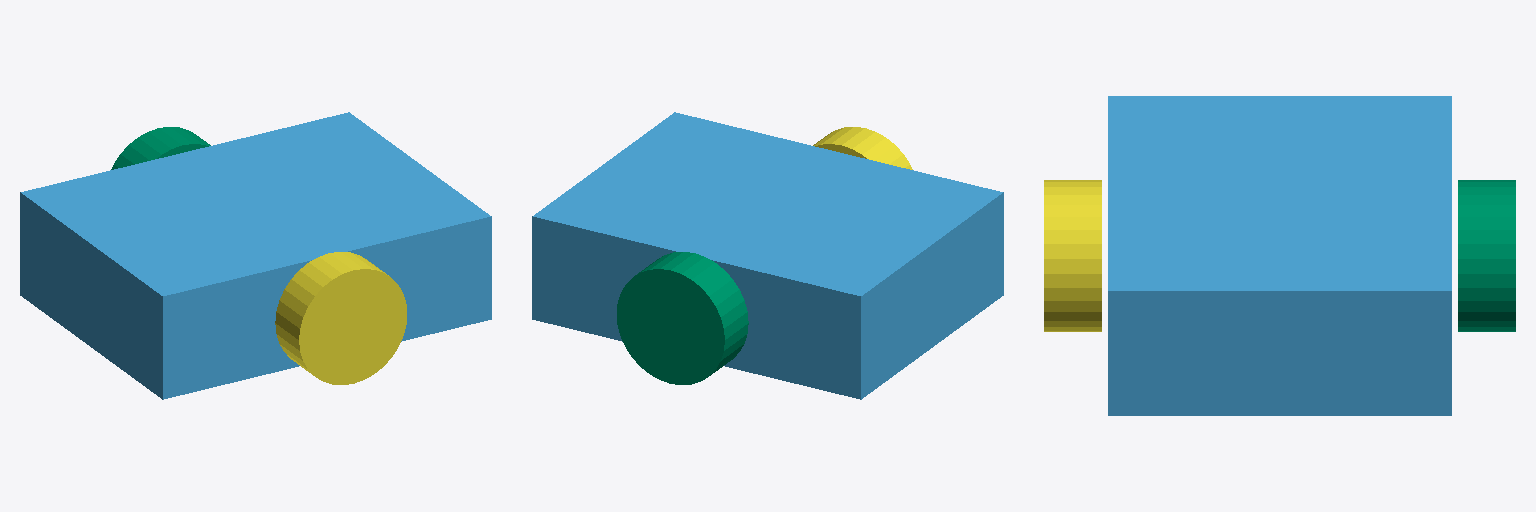
URDF robot description (tushar_car):
<?xml version="1.0" ?>
<robot name="tushar_car">

  <link name="base_footprint"/>

  <joint name="base_joint" type="fixed">
    <parent link="base_footprint"/>
    <child link="base_link"/>
    <origin xyz="0 0 0.033" rpy="0 0 0"/>
  </joint>

  <link name="base_link">
    <inertial>
      <mass value="0.5"/>
      <inertia ixx="0.005" ixy="0" ixz="0" iyy="0.005" iyz="0" izz="0.005"/>
    </inertial>
    <visual>
      <origin xyz="0 0 0" rpy="0 0 0"/>
      <geometry>
        <box size="0.2 0.15 0.06"/>
      </geometry>
    </visual>
    <collision>
      <origin xyz="0 0 0" rpy="0 0 0"/>
      <geometry>
        <box size="0.2 0.15 0.06"/>
      </geometry>
    </collision>
  </link>

  <gazebo reference="base_link">
    <material>Gazebo/Orange</material>
  </gazebo>

  <link name="left_wheel">
    <inertial>
      <mass value="0.1"/>
      <inertia ixx="0.0001" ixy="0" ixz="0" iyy="0.0001" iyz="0" izz="0.0001"/>
    </inertial>
    <visual>
      <origin xyz="0 0 0" rpy="1.5708 0 0"/>
      <geometry>
        <cylinder radius="0.033" length="0.025"/>
      </geometry>
    </visual>
    <collision>
      <origin xyz="0 0 0" rpy="1.5708 0 0"/>
      <geometry>
        <cylinder radius="0.033" length="0.025"/>
      </geometry>
    </collision>
  </link>

  <joint name="left_wheel_joint" type="continuous">
    <parent link="base_link"/>
    <child link="left_wheel"/>
    <origin xyz="0 0.09 0" rpy="0 0 0"/>
    <axis xyz="0 1 0"/>
    <dynamics damping="0.1" friction="0.1"/>
  </joint>

  <gazebo reference="left_wheel">
    <material>Gazebo/Blue</material>
    <mu1>1.5</mu1>
    <mu2>1.5</mu2>
    <kp>1000000.0</kp>
    <kd>1.0</kd>
  </gazebo>

  <link name="right_wheel">
    <inertial>
      <mass value="0.1"/>
      <inertia ixx="0.0001" ixy="0" ixz="0" iyy="0.0001" iyz="0" izz="0.0001"/>
    </inertial>
    <visual>
      <origin xyz="0 0 0" rpy="1.5708 0 0"/>
      <geometry>
        <cylinder radius="0.033" length="0.025"/>
      </geometry>
    </visual>
    <collision>
      <origin xyz="0 0 0" rpy="1.5708 0 0"/>
      <geometry>
        <cylinder radius="0.033" length="0.025"/>
      </geometry>
    </collision>
  </link>

  <joint name="right_wheel_joint" type="continuous">
    <parent link="base_link"/>
    <child link="right_wheel"/>
    <origin xyz="0 -0.09 0" rpy="0 0 0"/>
    <axis xyz="0 1 0"/>
    <dynamics damping="0.1" friction="0.1"/>
  </joint>

  <gazebo reference="right_wheel">
    <material>Gazebo/Blue</material>
    <mu1>1.5</mu1>
    <mu2>1.5</mu2>
    <kp>1000000.0</kp>
    <kd>1.0</kd>
  </gazebo>

  <link name="caster_wheel">
    <visual>
      <geometry>
        <sphere radius="0.015"/>
      </geometry>
    </visual>
    <collision>
      <geometry>
        <sphere radius="0.015"/>
      </geometry>
    </collision>
    <inertial>
      <mass value="0.05"/>
      <inertia ixx="0.00001" ixy="0" ixz="0" iyy="0.00001" iyz="0" izz="0.00001"/>
    </inertial>
  </link>

  <joint name="caster_joint" type="fixed">
    <parent link="base_link"/>
    <child link="caster_wheel"/>
    <origin xyz="0.08 0 -0.018" rpy="0 0 0"/>
  </joint>

  <gazebo reference="caster_wheel">
    <material>Gazebo/Black</material>
    <mu1>0.0</mu1>
    <mu2>0.0</mu2>
  </gazebo>

  <gazebo>
    <plugin name="diff_drive" filename="libgazebo_ros_diff_drive.so">
      <ros>
        <namespace>/</namespace>
      </ros>
      <left_joint>left_wheel_joint</left_joint>
      <right_joint>right_wheel_joint</right_joint>
      <wheel_separation>0.18</wheel_separation>
      <wheel_diameter>0.066</wheel_diameter>
      <max_wheel_torque>50</max_wheel_torque>
      <max_wheel_acceleration>5.0</max_wheel_acceleration>
      <command_topic>cmd_vel</command_topic>
      <robot_base_frame>base_footprint</robot_base_frame>
      <odometry_topic>odom</odometry_topic>
      <odometry_frame>odom</odometry_frame>
      <publish_odom>true</publish_odom>
      <publish_odom_tf>true</publish_odom_tf>
      <publish_wheel_tf>true</publish_wheel_tf>
      <update_rate>30</update_rate>
    </plugin>
  </gazebo>

</robot>

--- Facts derived from the render (not from the file) ---
Views: 3 orthographic renders of the robot side by side, from view 1: azimuth 30°, elevation 25°; view 2: azimuth 150°, elevation 25°; view 3: azimuth 270°, elevation 25°.
Robot: tushar_car — 5 links, 4 joints (2 continuous, 2 fixed); root link base_footprint; default pose: all joints at 0.
Visible links, largest first — view 1: base_link, right_wheel, left_wheel; view 2: base_link, left_wheel, right_wheel; view 3: base_link, left_wheel, right_wheel.
Boxes of the visible links, x1,y1,x2,y2 form: base_link: (20,112,491,399); right_wheel: (275,252,406,384); left_wheel: (111,127,210,169); base_link: (532,112,1003,399); left_wheel: (617,252,748,384); right_wheel: (813,127,912,169); base_link: (1108,96,1451,415); left_wheel: (1458,180,1515,331); right_wheel: (1044,180,1101,331).
Bounding box of the posed robot: 0.2 × 0.205 × 0.066 m (x, y, z).
Geometry: primitives only (box / cylinder / sphere), no mesh files.
